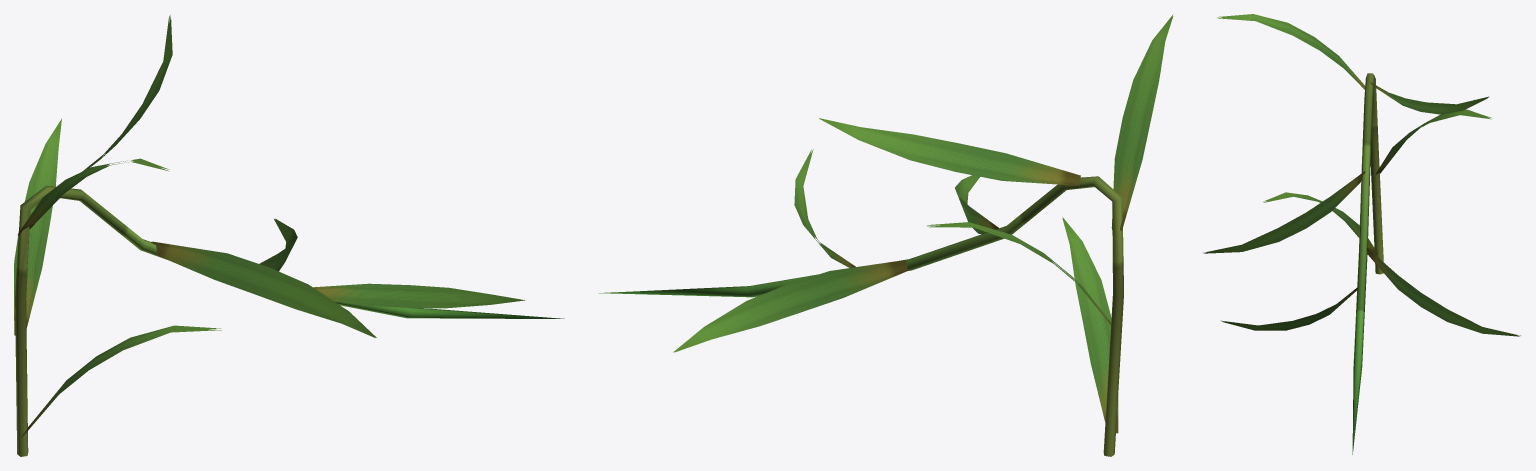
File: reed_fallen.FBX
3 renders of one model, left to right at view 1: azimuth 30°, elevation 25°; view 2: azimuth 150°, elevation 25°; view 3: azimuth 270°, elevation 25°, orthographic. The views are drawn at different scales.
Visible parts, largest first — view 1: reed_fallen; view 2: reed_fallen; view 3: reed_fallen.
Boxes of the visible parts, x1,y1,x2,y2 form: reed_fallen: [14, 15, 564, 456]; reed_fallen: [598, 14, 1173, 456]; reed_fallen: [1203, 14, 1520, 454].
Size of the model in its own units: 72.98 by 45.64 by 48.6.
1 material, 1 textured.
